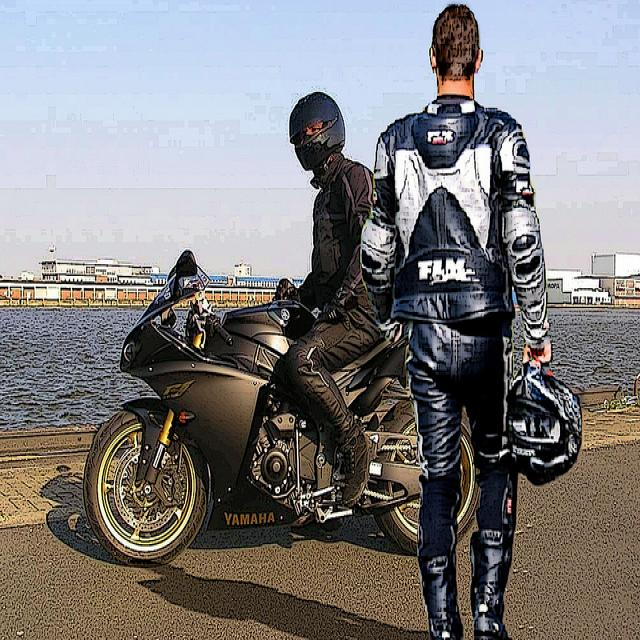motor: (85, 251, 479, 569)
